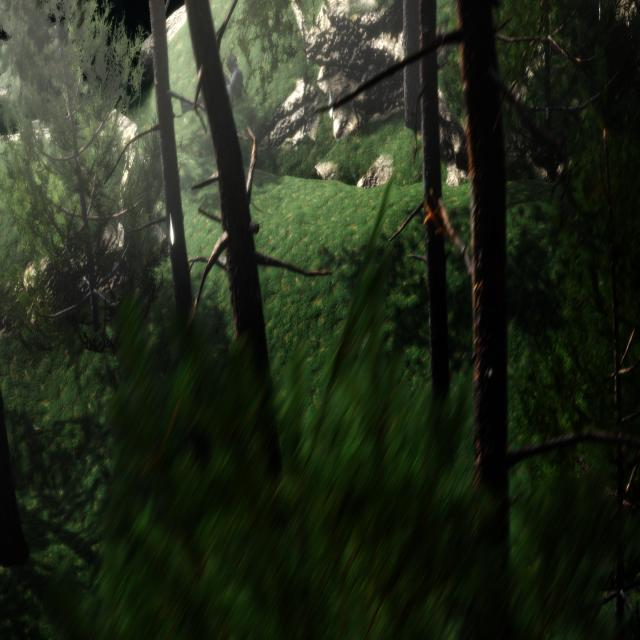Human: (176, 49, 246, 114)
